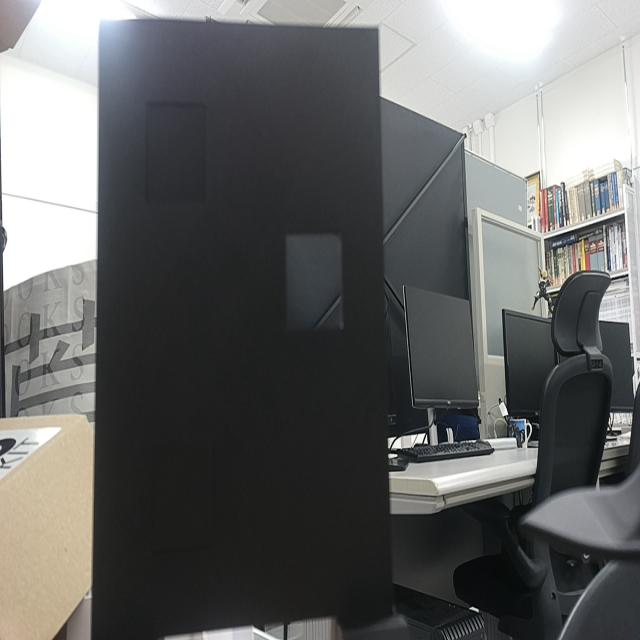Obstacle: (286, 233, 343, 332)
Wall: (91, 22, 392, 639)
